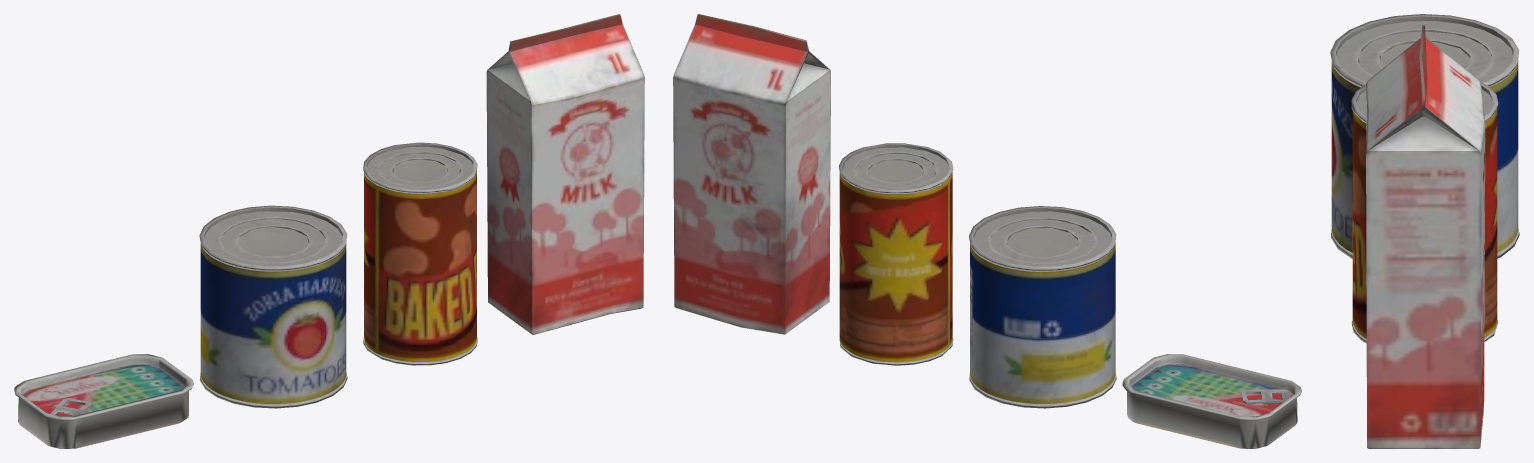
Rendered from long_life_food_lod1.glb.
3 renders of one model, left to right at view 1: azimuth 30°, elevation 25°; view 2: azimuth 150°, elevation 25°; view 3: azimuth 270°, elevation 25°, orthographic. The views are drawn at different scales.
Parts seen in each view (by area): view 1: long_life_food_milk; view 2: long_life_food_milk; view 3: long_life_food_milk.
Boxes of the visible parts, left/top/right/bottom form: long_life_food_milk: left=14, top=14, right=644, bottom=448; long_life_food_milk: left=673, top=14, right=1301, bottom=448; long_life_food_milk: left=1330, top=14, right=1519, bottom=448.
Size of the model in its own units: 0.5233 by 0.2376 by 0.1136.
Materials: 1 (1 with a texture image).
